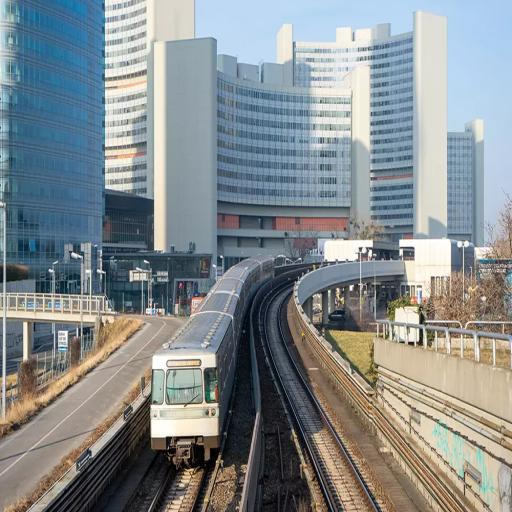Silberpfeil: (149, 251, 276, 464)
